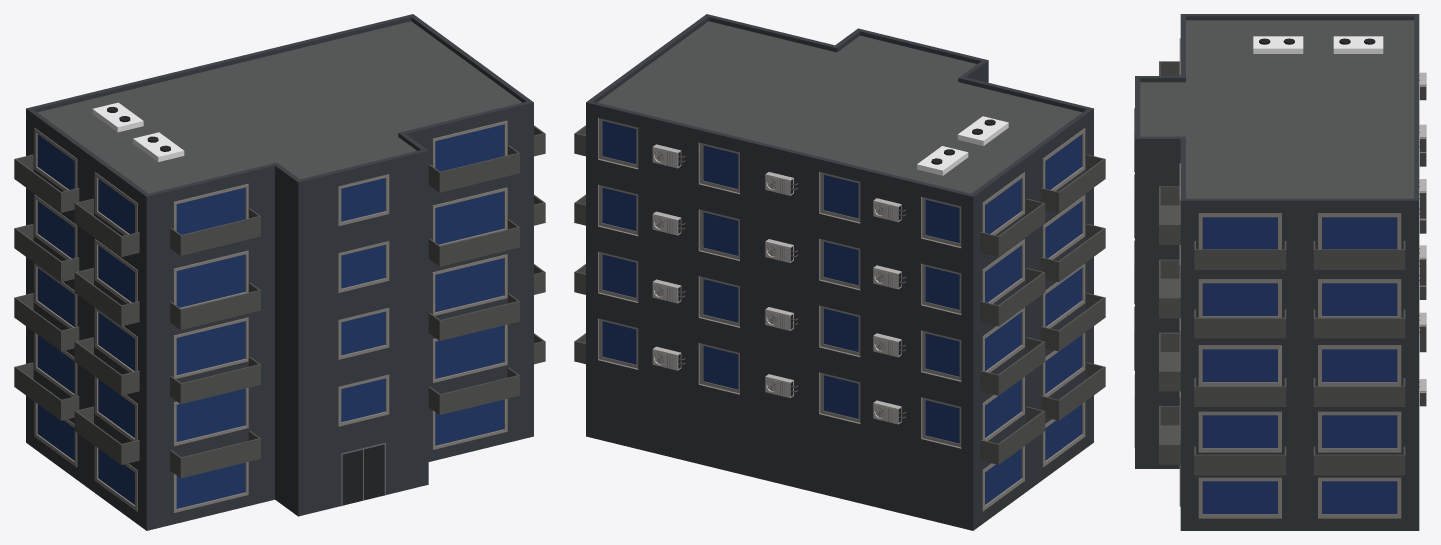
Rendered from Building_8.fbx.
3 views of the same model, side by side, from view 1: azimuth 30°, elevation 25°; view 2: azimuth 150°, elevation 25°; view 3: azimuth 270°, elevation 25° (orthographic).
Parts seen in each view (by area): view 1: Building_8; view 2: Building_8; view 3: Building_8.
Boxes of the visible parts, box(x1,y1,x2,y2) form: Building_8: box(14, 14, 545, 530); Building_8: box(574, 14, 1105, 530); Building_8: box(1134, 14, 1426, 530).
Size of the model in its own units: 1715 by 1301 by 1036.
